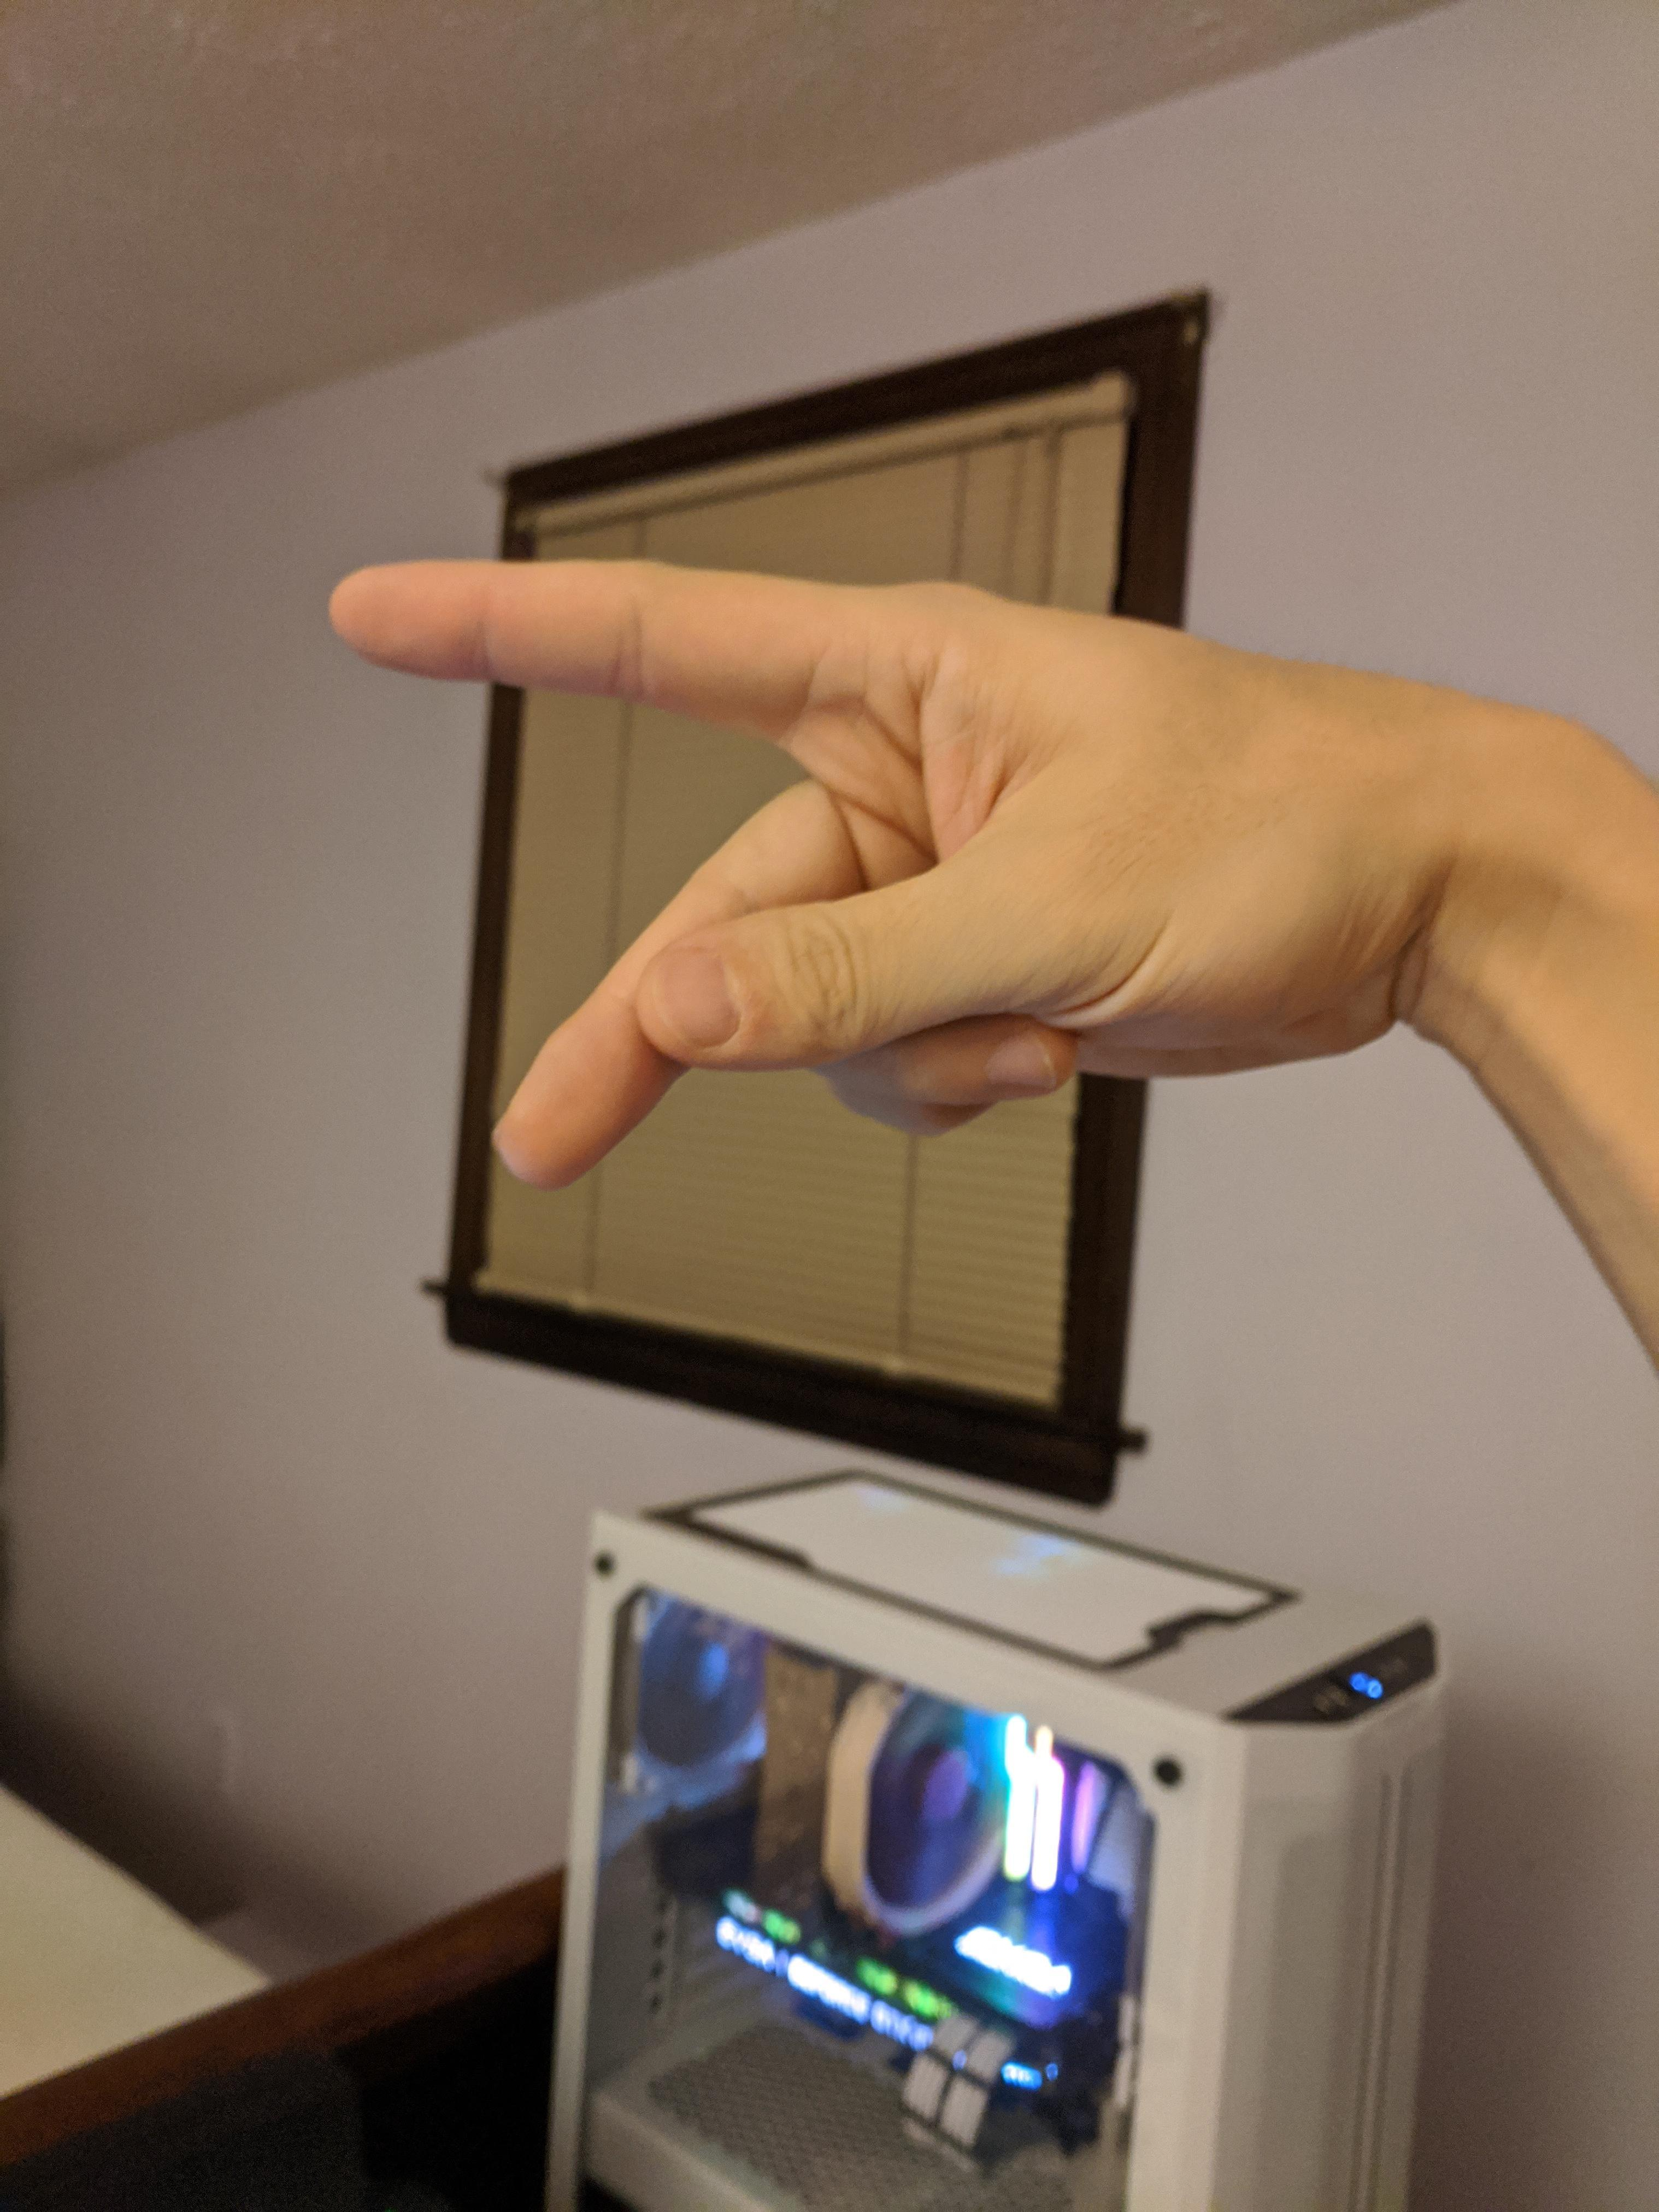P: (318, 539, 1461, 1217)
